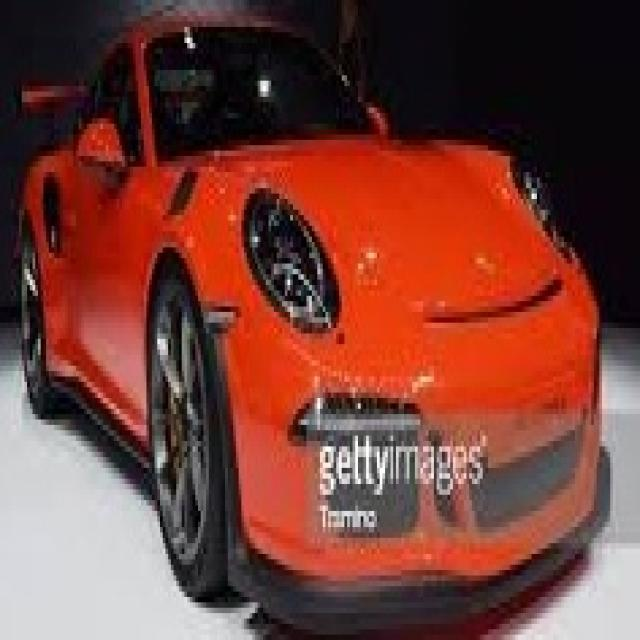red: (11, 0, 591, 597)
